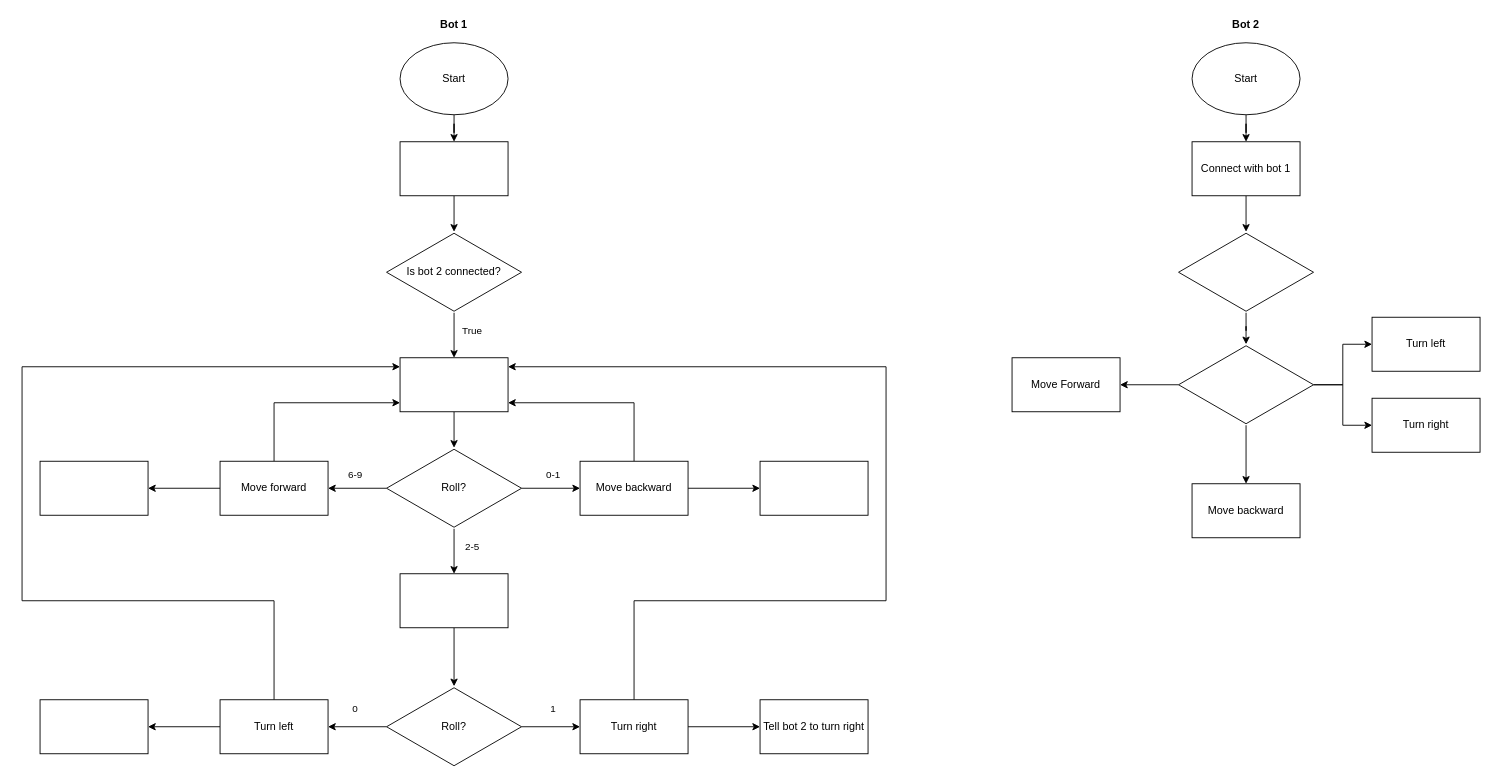
Image size: 1496x783. Some labels were removed from this diagram. The box of each missing label's shape, as (x1, y1, x2, y2) in pixels:
Connect with bot 2: (399, 141, 508, 196)
Connected with bot 1?: (1178, 231, 1314, 313)
Roll 0-1: (399, 573, 508, 628)
Roll 0-9: (399, 357, 508, 412)
Tell bot 2 to move backward: (759, 460, 868, 515)
Tell bot 2 to move forward: (39, 460, 148, 515)
Tell bot 2 to turn left: (39, 699, 148, 754)
Wait for command from bot 1: (1178, 343, 1314, 425)
